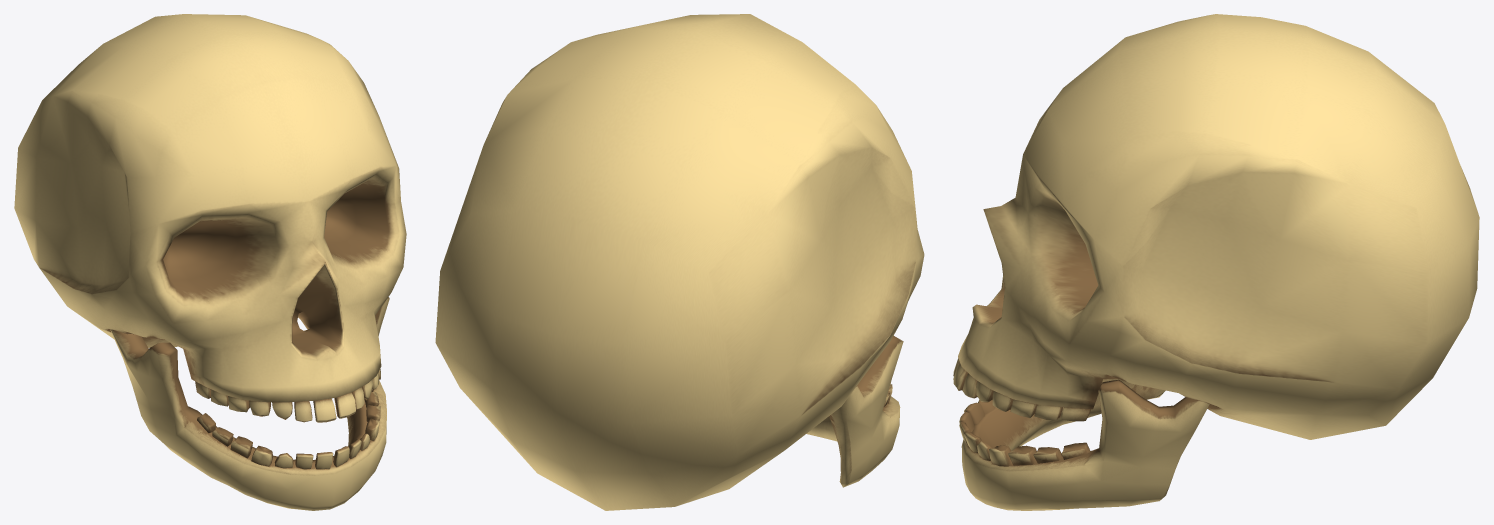
Rendered from zugaikotu.fbx.
The picture shows the model from 3 angles, left to right: view 1: azimuth 30°, elevation 25°; view 2: azimuth 150°, elevation 25°; view 3: azimuth 270°, elevation 25°; orthographic projection. The views are drawn at different scales.
Parts seen in each view (by area): view 1: zugaikotu; view 2: zugaikotu; view 3: zugaikotu.
Part boxes in pixels (x1,y1,x2,y2): zugaikotu: [14, 14, 406, 510]; zugaikotu: [435, 14, 924, 510]; zugaikotu: [953, 14, 1479, 510].
Bounding box in the file's own units: 11.42 × 15.23 × 15.69.
